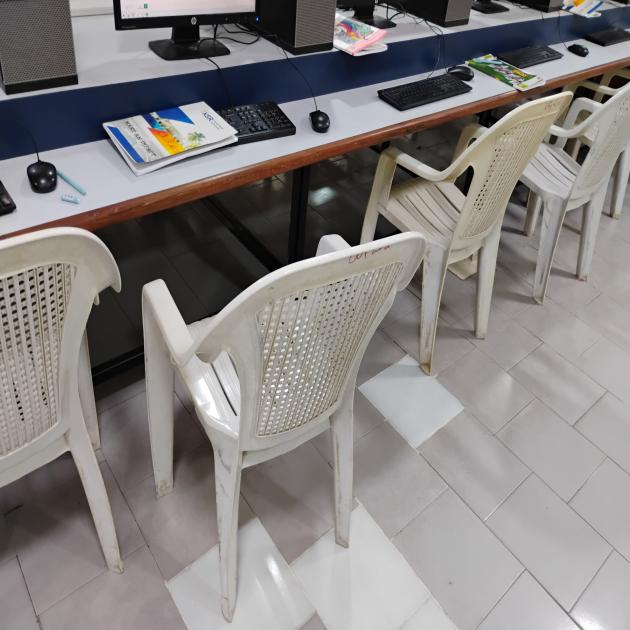chair: (144, 229, 421, 556)
keyboard: (375, 73, 481, 114)
mouse: (24, 150, 66, 202), (308, 104, 339, 142), (567, 36, 595, 69)
notebook: (102, 109, 244, 186)
